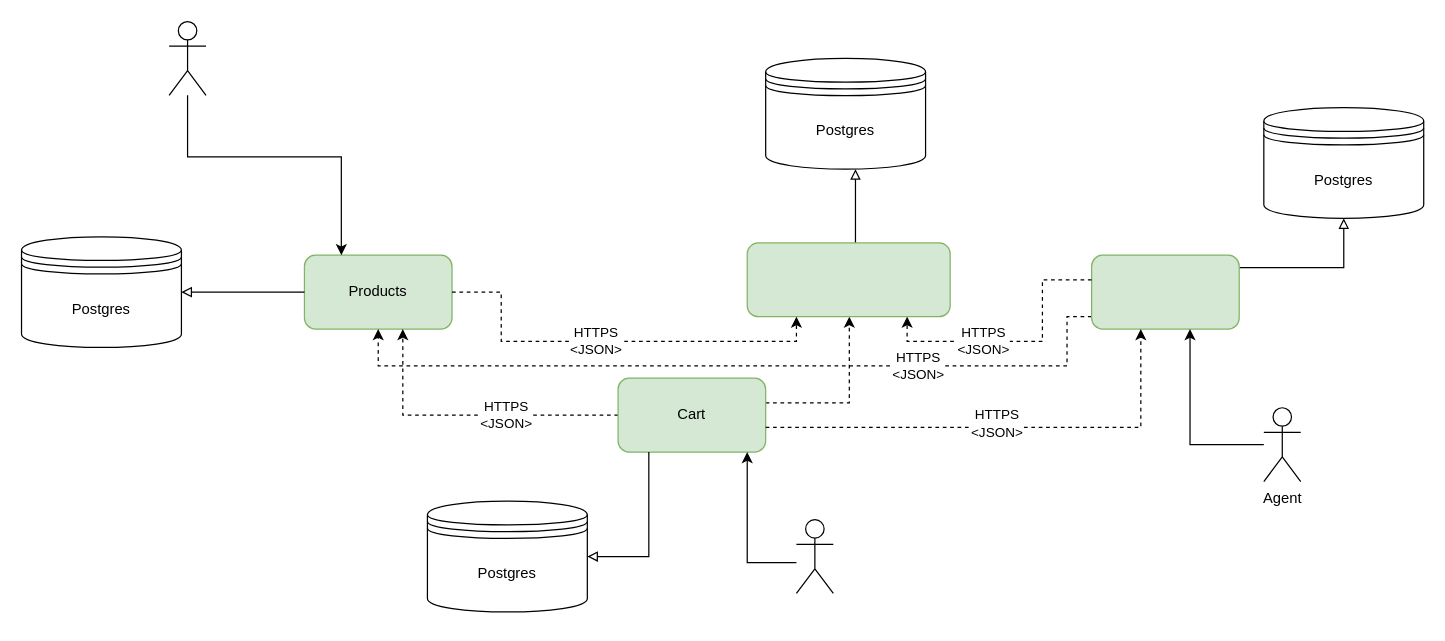
This 1445x641 diagram has some shape labels left out. The centre of each missing label's shape, as x and y in pixels:
"Buyer" goes at point 814,555.
"Gandalf (Authentication)" goes at point 848,279.
"Seller" goes at point 187,57.
"Warehouse" goes at point 1164,291.
